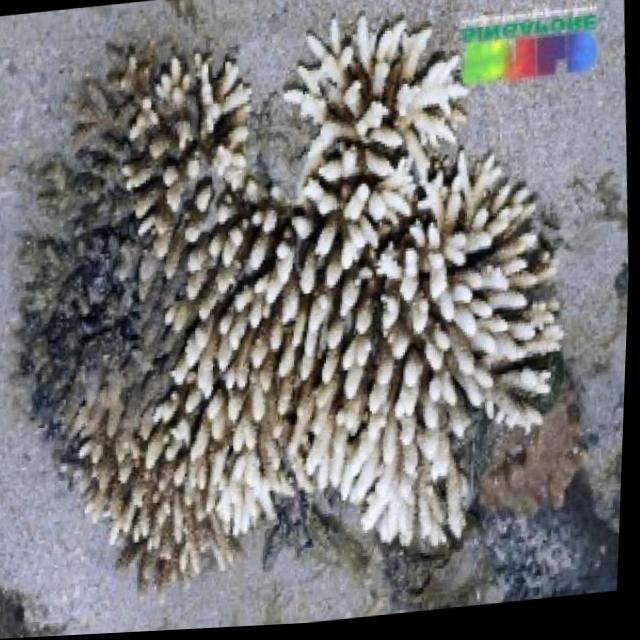Bleached Coral: (148, 9, 585, 604)
Dead Coral: (0, 46, 174, 580)
